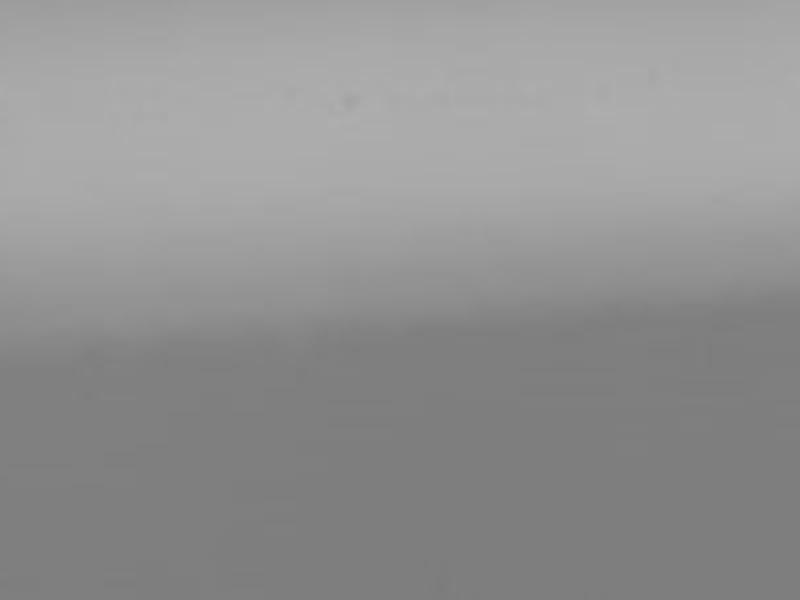defect: (344, 90, 363, 117)
